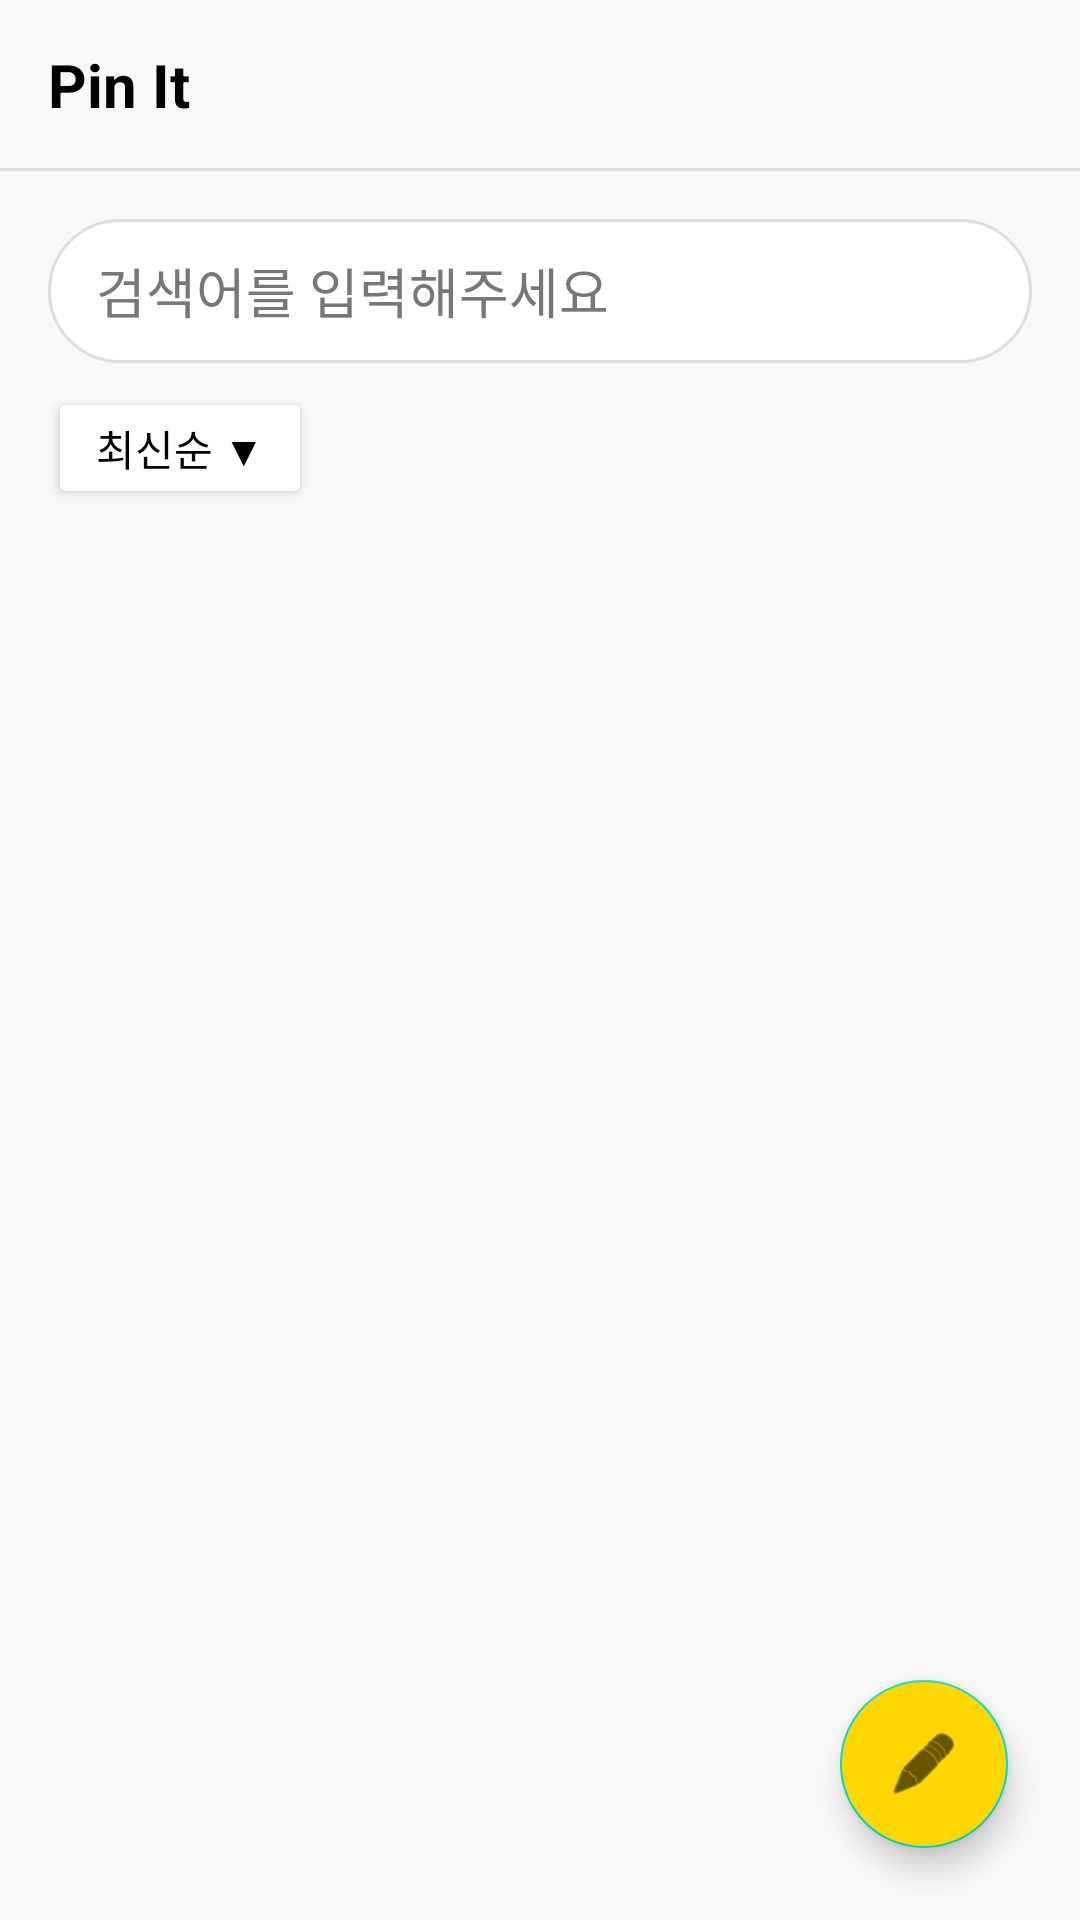

Icons on this 1080×1920 Android screen, each with the point to tap as [x,y]:
edit: [924,1764]
